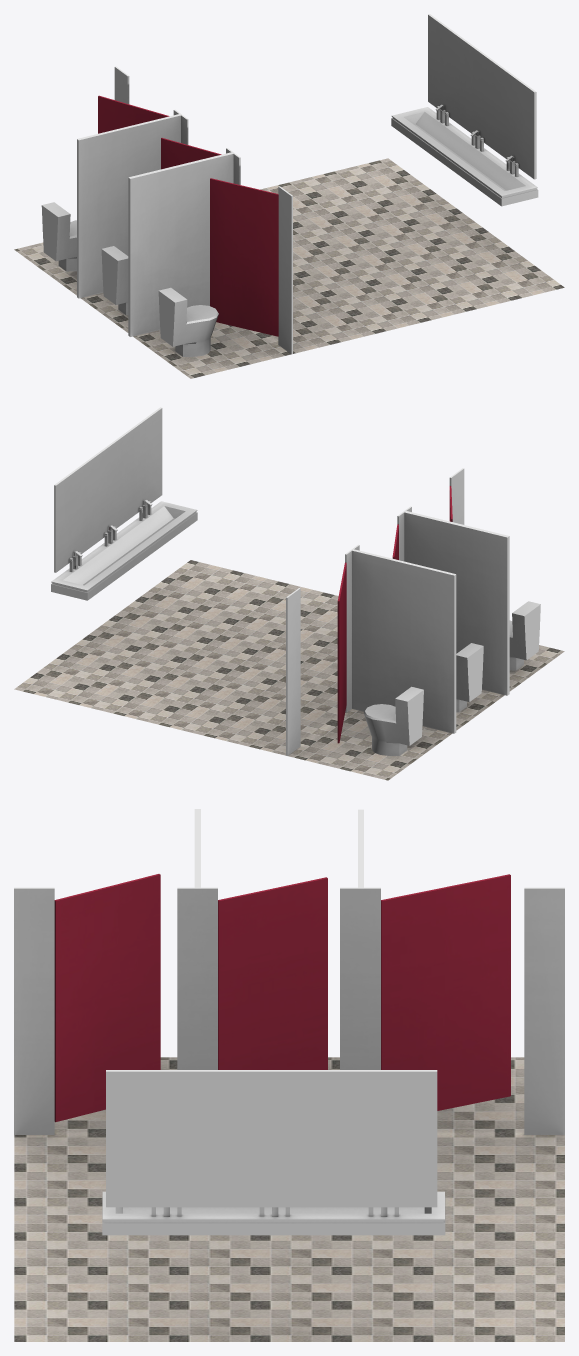
File: BathroomVB.FBX
3 renders of one model, top to bottom at view 1: azimuth 30°, elevation 25°; view 2: azimuth 150°, elevation 25°; view 3: azimuth 270°, elevation 25°, orthographic. The views are drawn at different scales.
Visible parts, largest first — view 1: PisoBath, Intersecciones, Puerta1, Espejo, Lavabo, Inodoro1, Inodoro3, Inodoro2, Puerta3, Puerta2; view 2: PisoBath, Intersecciones, Espejo, Lavabo, Inodoro3, Inodoro1, Inodoro2, Puerta3; view 3: PisoBath, Espejo, Intersecciones, Puerta3, Puerta1, Puerta2, Lavabo.
Part boxes in pixels (box(x1,y1,x2,y2)): PisoBath: box(14, 158, 564, 378); Intersecciones: box(77, 66, 292, 354); Puerta1: box(210, 178, 278, 336); Espejo: box(428, 14, 536, 179); Lavabo: box(391, 107, 538, 206); Inodoro1: box(158, 287, 218, 356); Inodoro3: box(41, 202, 76, 271); Inodoro2: box(101, 246, 128, 315); Puerta3: box(98, 95, 169, 133); Puerta2: box(161, 138, 221, 169); PisoBath: box(14, 560, 564, 780); Intersecciones: box(286, 468, 509, 755); Espejo: box(54, 407, 162, 572); Lavabo: box(51, 501, 197, 600); Inodoro3: box(364, 686, 423, 755); Inodoro1: box(509, 601, 540, 670); Inodoro2: box(456, 643, 483, 712); Puerta3: box(337, 562, 346, 743); PisoBath: box(14, 1057, 564, 1341); Espejo: box(106, 1070, 437, 1207); Intersecciones: box(14, 809, 564, 1134); Puerta3: box(381, 874, 510, 1110); Puerta1: box(54, 874, 160, 1122); Puerta2: box(218, 877, 327, 1069); Lavabo: box(102, 1191, 445, 1235).
Size of the model in its own units: 5 by 2.2 by 4.05.
Materials: 1 (1 with a texture image).
